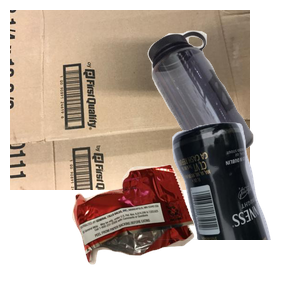cardboard: (10, 10, 250, 190)
glass: (106, 120, 300, 300)
plastic: (145, 28, 300, 192)
trash: (70, 162, 257, 300)
